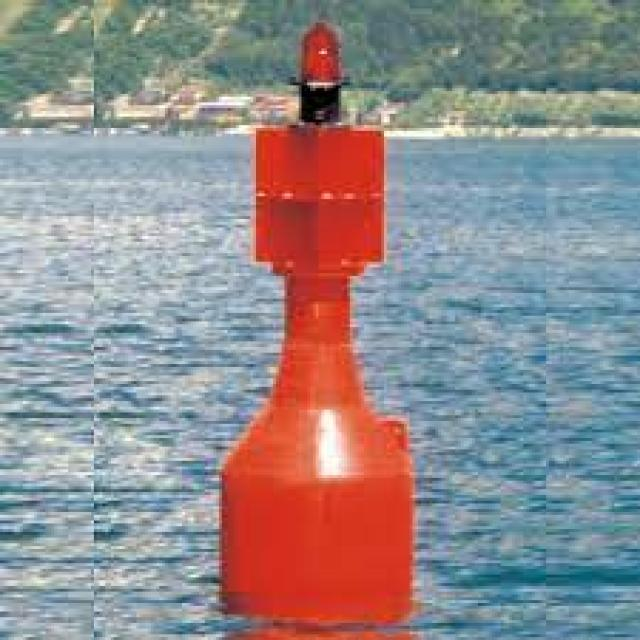2.1 lateral mark -P-: (183, 1, 433, 627)
